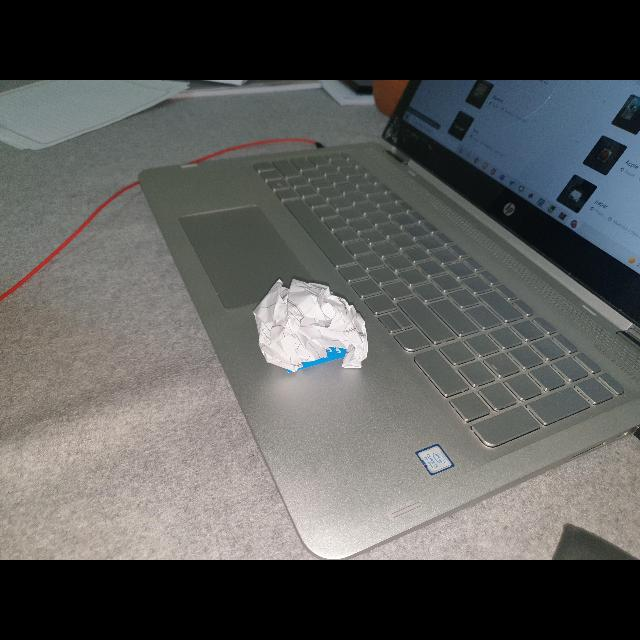scrap_paper: (258, 275, 372, 375)
